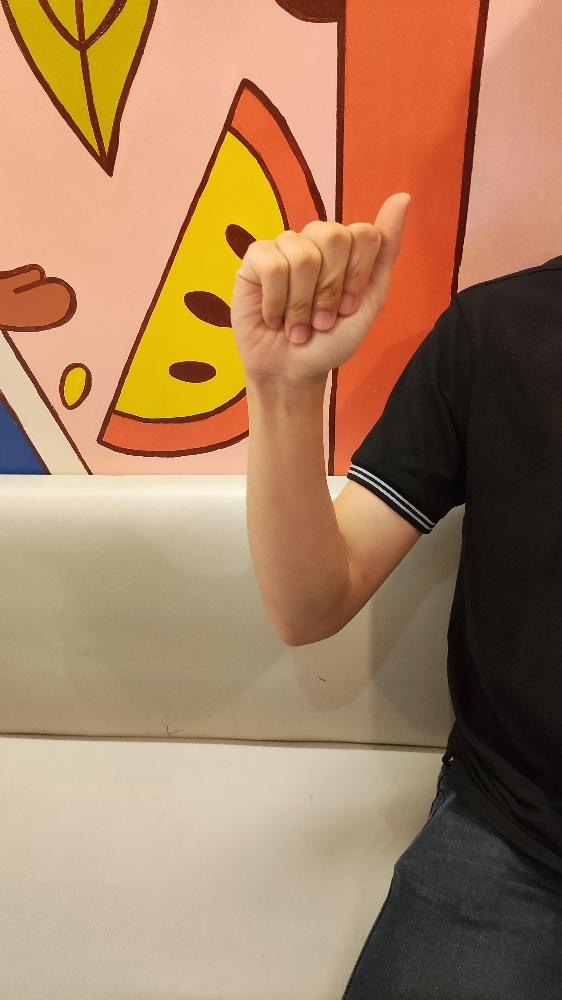a: (228, 188, 413, 380)
